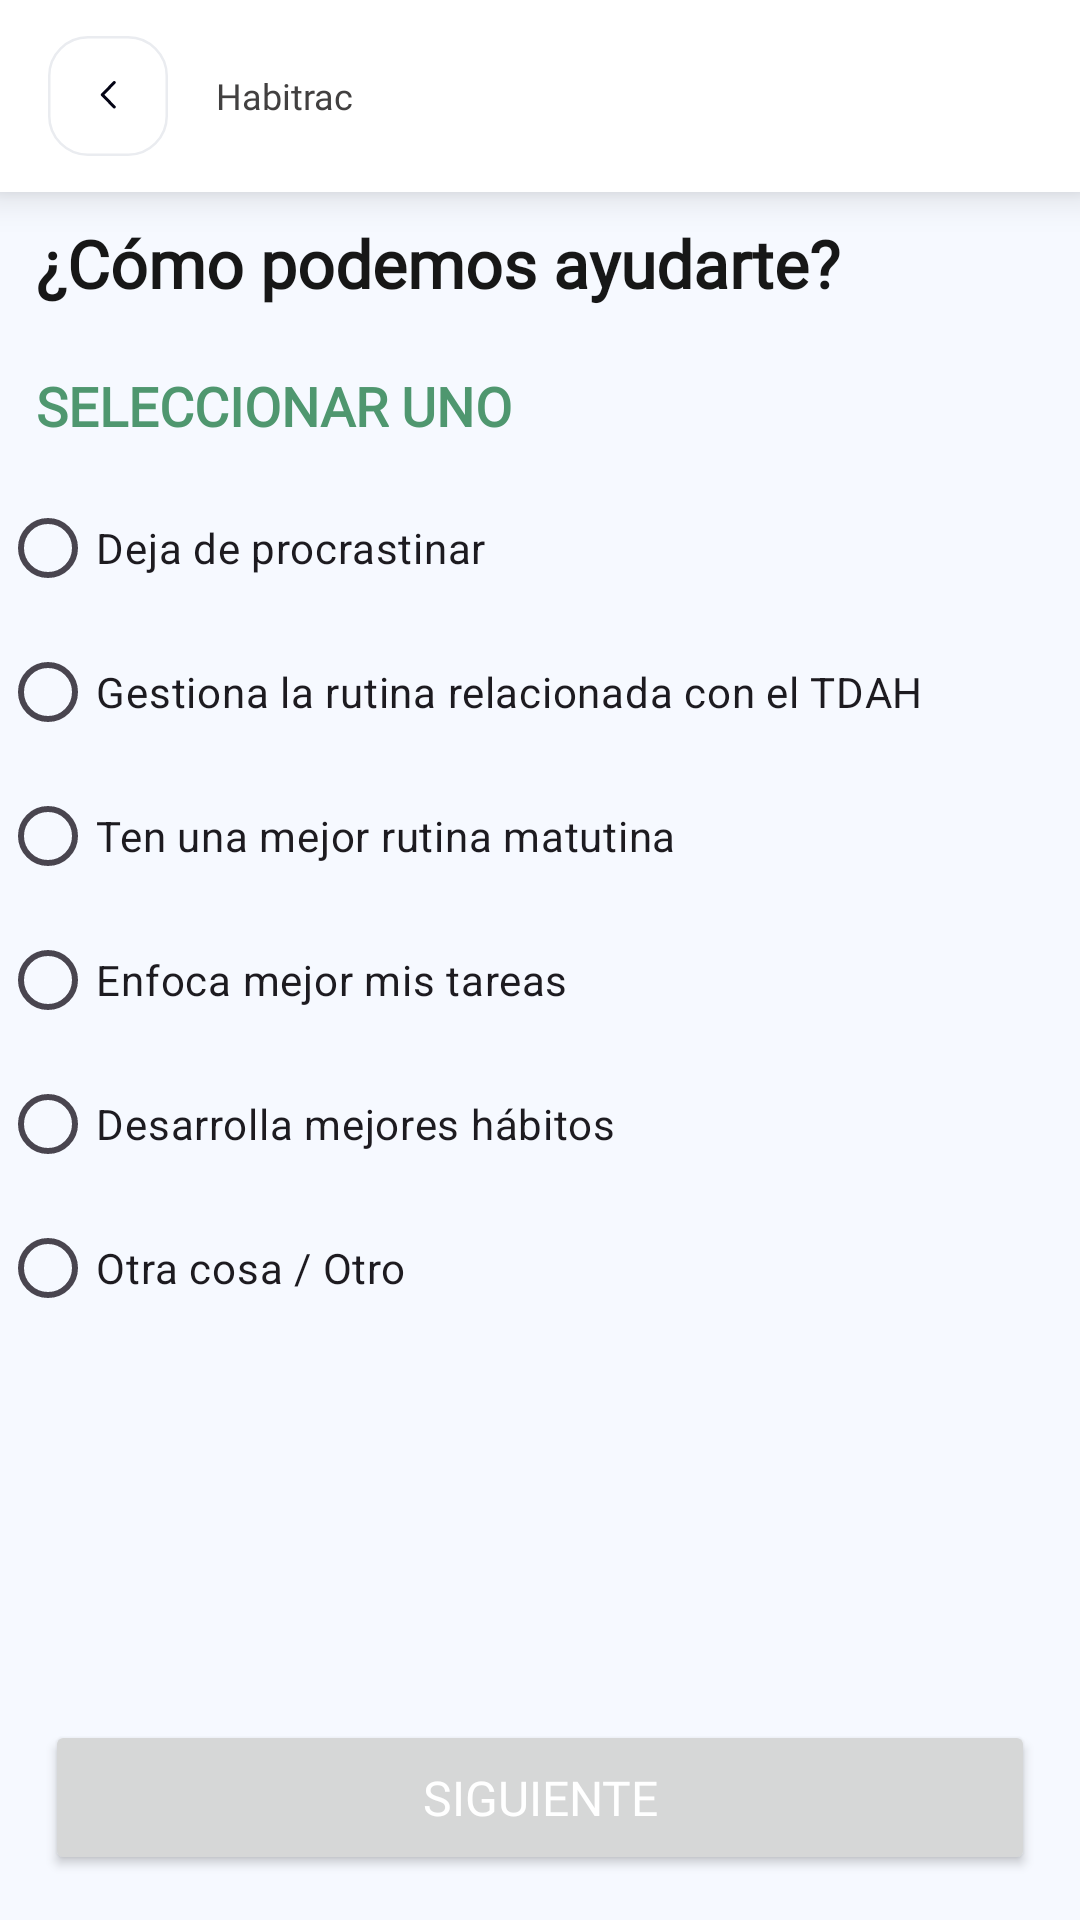

Point at icon controls on the screen. Image size 1080*1920, points as [x,y].
back: [108,95]
